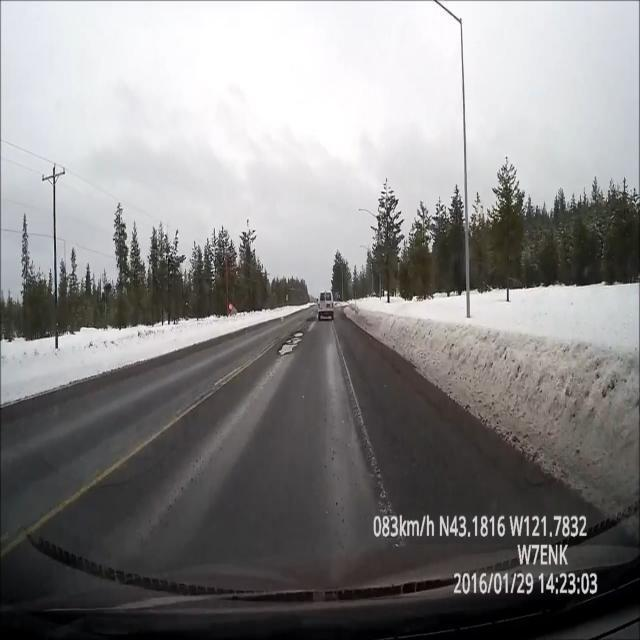pothole: (275, 320, 307, 362)
